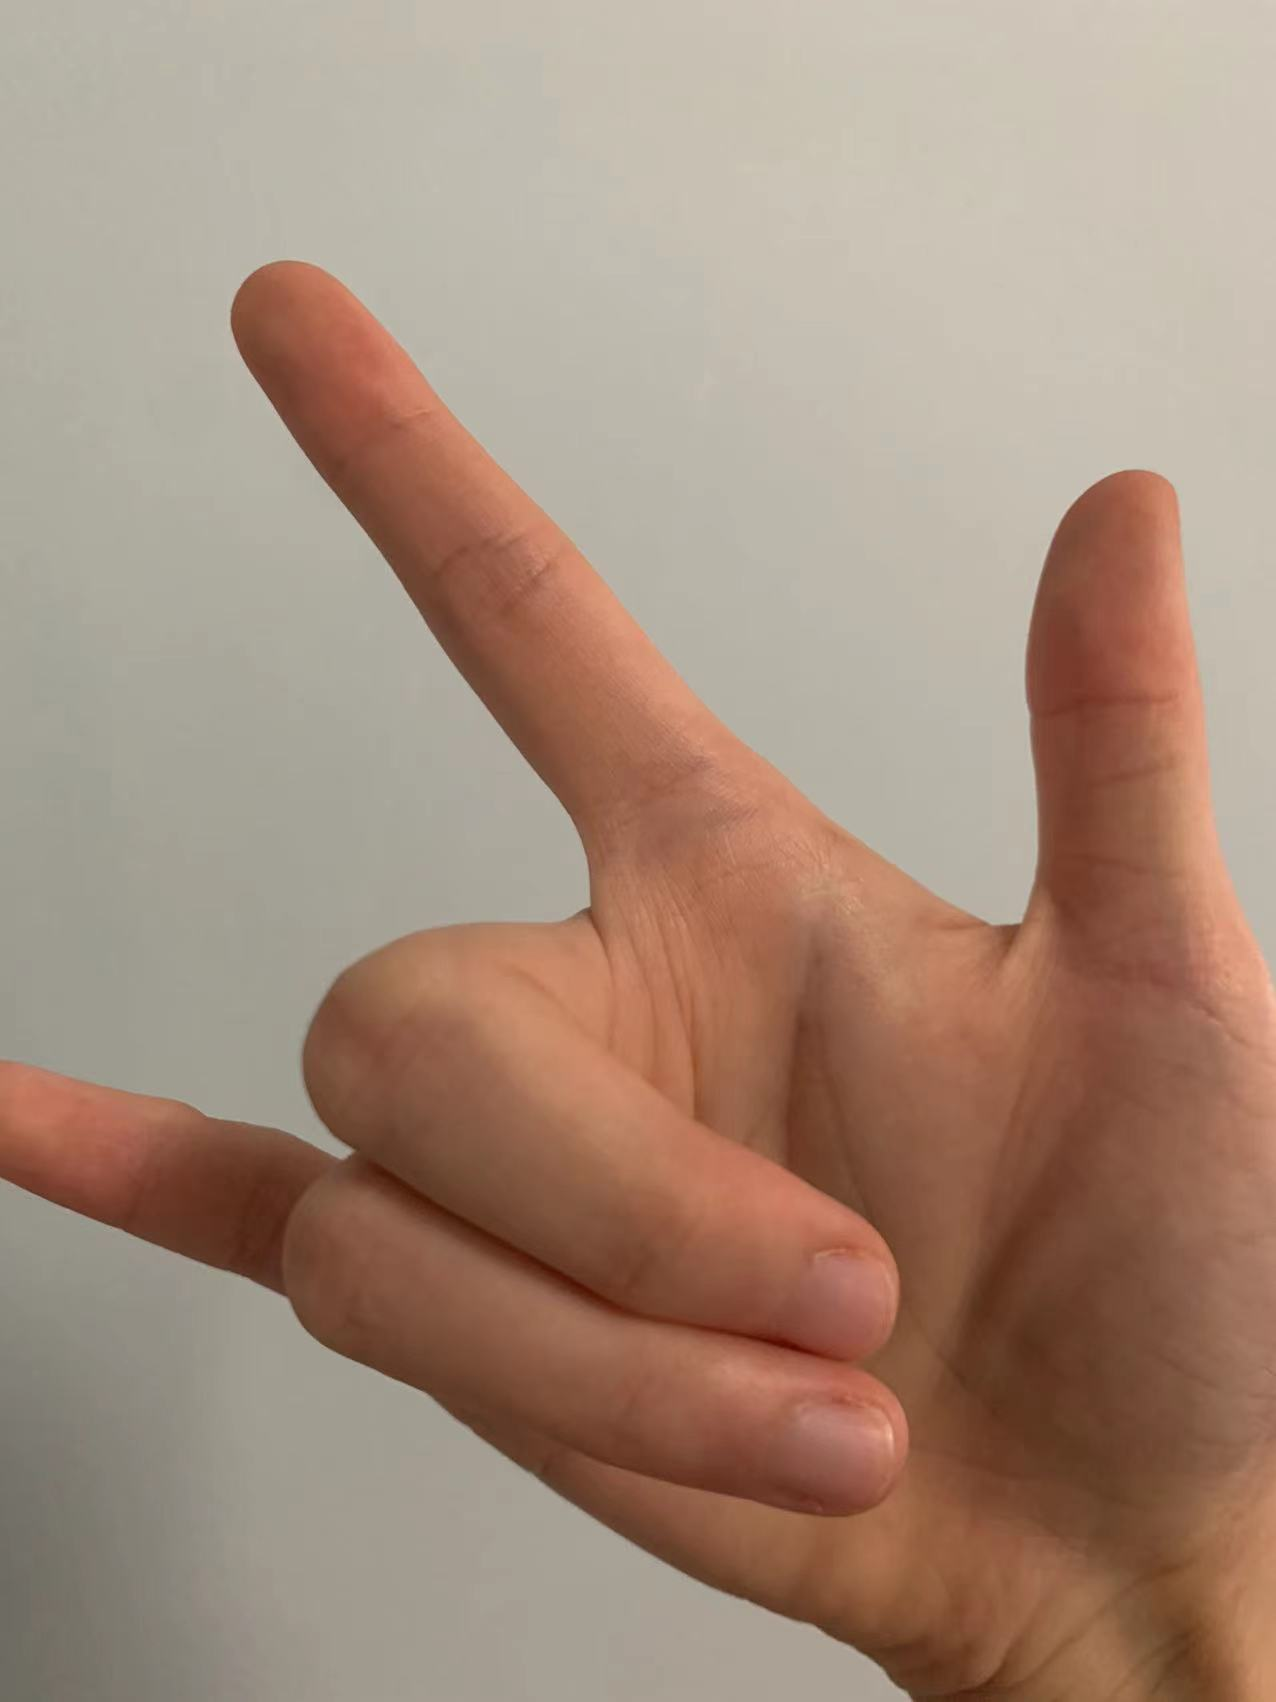back: (9, 253, 1276, 1656)
